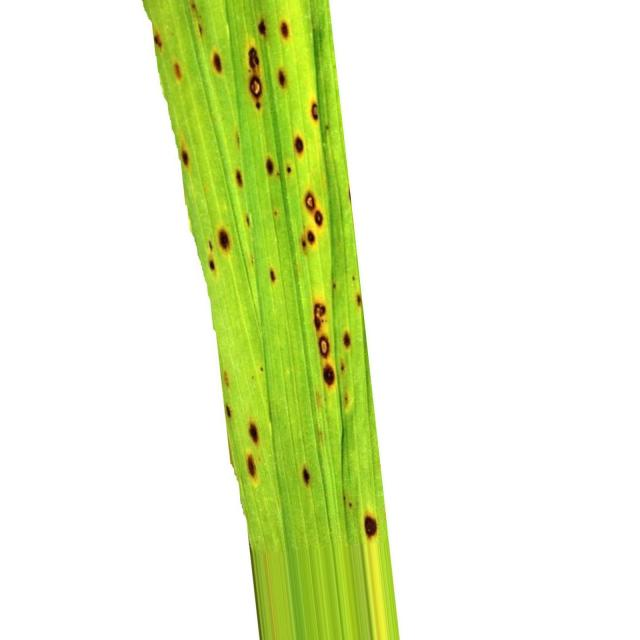Brown_Spot: (364, 516, 378, 538), (314, 304, 326, 329), (301, 230, 316, 249), (250, 76, 262, 98), (322, 365, 335, 385), (319, 336, 330, 358), (246, 454, 256, 478), (211, 52, 222, 72), (249, 48, 259, 70), (219, 229, 230, 249), (249, 422, 259, 443), (265, 156, 275, 175), (180, 145, 189, 166), (280, 20, 290, 38), (294, 136, 304, 154), (305, 192, 315, 210), (314, 210, 324, 226), (342, 331, 351, 348), (278, 69, 286, 88), (174, 62, 182, 80), (311, 102, 319, 120), (258, 19, 266, 36), (302, 468, 310, 485), (269, 268, 276, 282), (236, 170, 242, 186), (154, 35, 162, 46), (356, 292, 362, 306), (225, 405, 231, 419), (209, 260, 215, 271)
